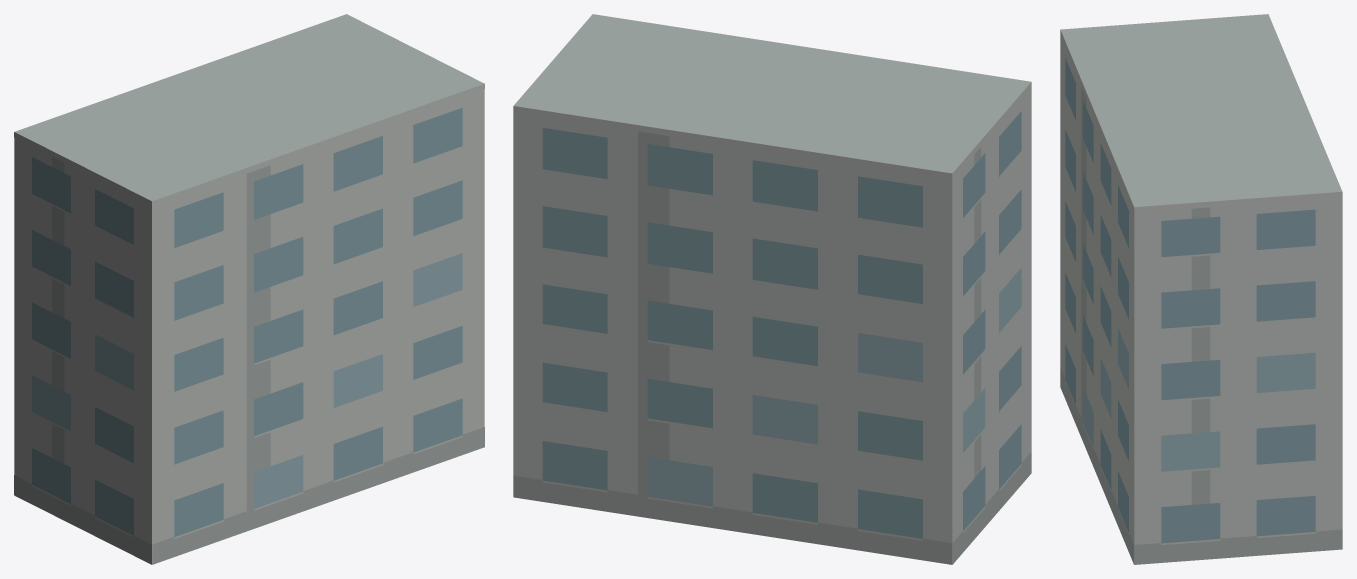
The model's file is residential-4536dddd-3676-4275-93b8-3a3ea77704b8.glb.
The picture shows the model from 3 angles, left to right: view 1: azimuth 30°, elevation 25°; view 2: azimuth 150°, elevation 25°; view 3: azimuth 270°, elevation 25°; orthographic projection. The views are drawn at different scales.
Parts seen in each view (by area): view 1: residential-4536dddd-3676-4275-93b8-3a3ea77704b8.tmp; view 2: residential-4536dddd-3676-4275-93b8-3a3ea77704b8.tmp; view 3: residential-4536dddd-3676-4275-93b8-3a3ea77704b8.tmp.
Part boxes in pixels (bbox=[...]): residential-4536dddd-3676-4275-93b8-3a3ea77704b8.tmp: bbox=[14, 14, 484, 564]; residential-4536dddd-3676-4275-93b8-3a3ea77704b8.tmp: bbox=[513, 14, 1031, 564]; residential-4536dddd-3676-4275-93b8-3a3ea77704b8.tmp: bbox=[1060, 14, 1342, 564].
Size of the model in its own units: 17.67 by 15.25 by 10.91.
